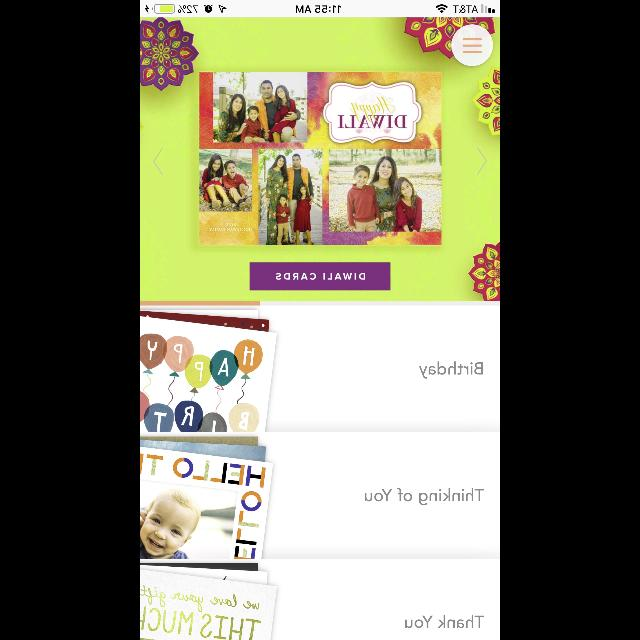icon: (451, 25, 493, 67), (477, 148, 487, 175), (154, 149, 162, 175)
image: (140, 18, 500, 306), (140, 308, 278, 432), (140, 437, 274, 559), (140, 562, 278, 640)
text: (364, 488, 484, 506), (404, 614, 484, 628), (419, 362, 483, 378)
textbutton: (250, 263, 390, 291)
uppertaskbar: (140, 0, 500, 14)
